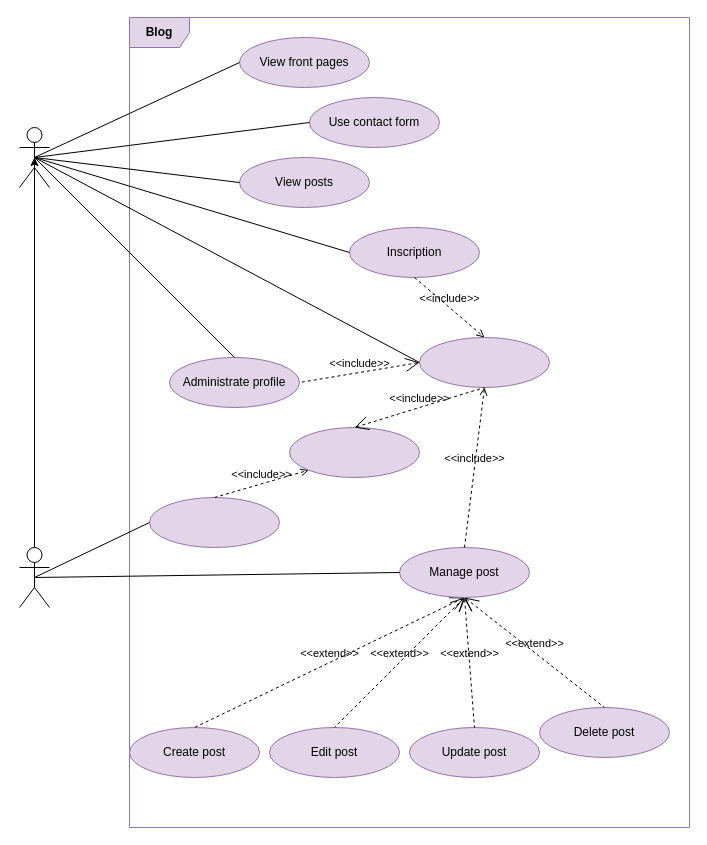
The diagram is 707 pixels wide and 845 high, and some of its shapes have lost their labels. Each missing label, with the centre of its shape:
"Admin" belongs at point (34, 577).
"Comment posts" belongs at point (354, 452).
"Connection" belongs at point (484, 362).
"Moderate comments" belongs at point (214, 522).
"Visitor" belongs at point (34, 157).
